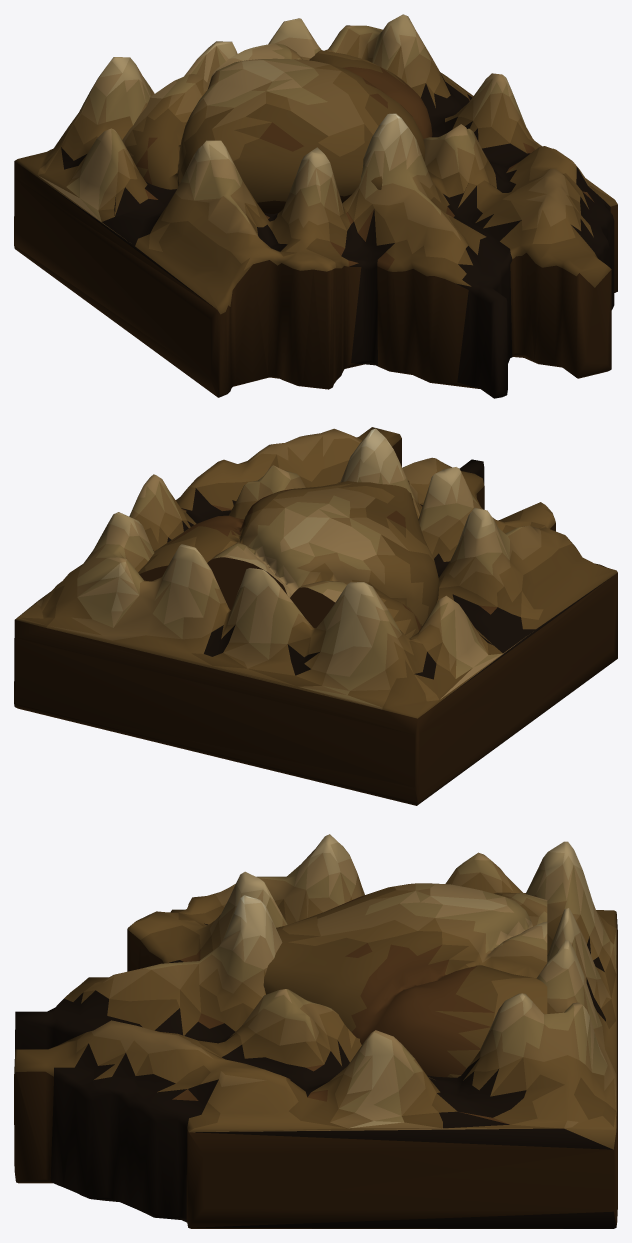
File: ixm_maw_13.glb
3 renders of one model, top to bottom at view 1: azimuth 30°, elevation 25°; view 2: azimuth 150°, elevation 25°; view 3: azimuth 270°, elevation 25°, orthographic. The views are drawn at different scales.
Parts seen in each view (by area): view 1: ixm_maw_13; view 2: ixm_maw_13; view 3: ixm_maw_13.
Boxes of the visible parts, box(x1,y1,x2,y2) form: ixm_maw_13: box(14, 14, 617, 398); ixm_maw_13: box(14, 427, 617, 805); ixm_maw_13: box(14, 834, 617, 1228).
Bounding box in the file's own units: 24.14 × 12.82 × 27.95.
